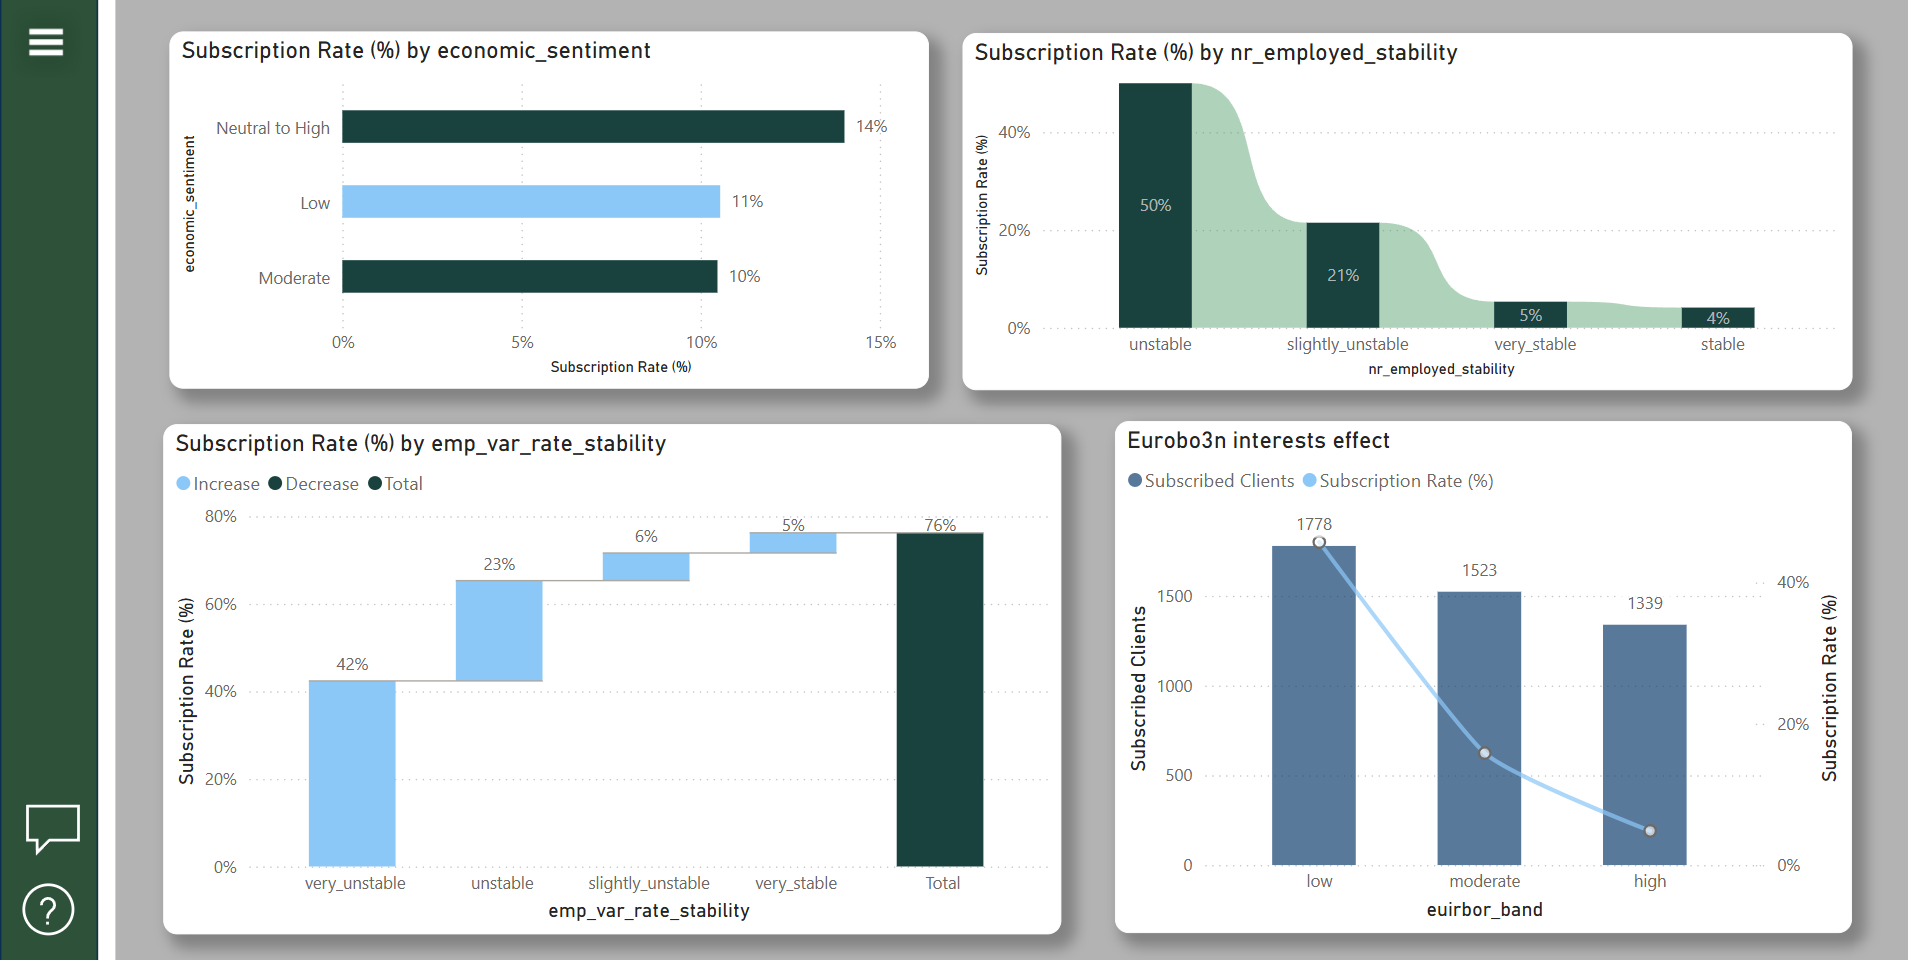

This screenshot's page, from the dashboard's own definition file:
{"tool":"powerbi","page":{"name":"eco_indicator_over_view","canvas":[1370,700],"ordinal":2},"visuals":[{"type":"shape","title":"side bar","box":[0,0,70.7,719.1],"z":0,"group":"g3"},{"type":"clusteredBarChart","fields":{"Y":["subscriptions.Subscription Rate (%)"],"Category":["bank_marketing_campaign.economic_sentiment"]},"box":[122.1,25.1,548.2,257.6],"z":0,"group":"g2"},{"type":"group","id":"g1","title":"Group 2","box":[118,307,1218.3,370.2],"z":0},{"type":"actionButton","title":"Menu button","box":[0,0,70,66.9],"z":1000,"group":"g3"},{"type":"group","id":"g2","title":"Group 1","box":[122.1,25.1,1214.4,258.7],"z":1000},{"type":"lineStackedColumnComboChart","title":"Eurobo3n interests effect","fields":{"Y":["subscriptions.Subscribed Clients"],"Y2":["subscriptions.Subscription Rate (%)"],"Category":["bank_marketing_campaign.euirbor_band"]},"box":[804.5,307,531.7,369.3],"z":1000,"group":"g1"},{"type":"shape","title":"sb2","box":[71.3,0,12.1,699.7],"z":2000,"group":"g3"},{"type":"ribbonChart","fields":{"Y":["subscriptions.Subscription Rate (%)"],"Category":["bank_marketing_campaign.nr_employed_stability"]},"box":[694.4,26.2,642.1,257.6],"z":2000,"group":"g2"},{"type":"waterfallChart","fields":{"Y":["subscriptions.Subscription Rate (%)"],"Category":["bank_marketing_campaign.emp_var_rate_stability"]},"box":[118,309.1,648,368.1],"z":2001,"group":"g1"},{"type":"group","id":"g3","title":"Menu bar","box":[0,0,83.5,719.1],"z":3000},{"type":"actionButton","title":"Ques & Ans","box":[13.3,575.9,50.1,52.6],"z":3000,"group":"g3"},{"type":"actionButton","title":"Help","box":[10.3,628.5,50.1,59.9],"z":4000,"group":"g3"}]}

Visuals, with their boxes in screenshot pixels (x1, y1, x2, y2):
"side bar" shape: x1=0 y1=0 x2=89 y2=959
clusteredBarChart - subscriptions.Subscription Rate (%) x bank_marketing_campaign.economic_sentiment: x1=161 y1=20 x2=929 y2=381
"Group 2" group: x1=155 y1=415 x2=1862 y2=934
"Menu button" actionButton: x1=0 y1=0 x2=88 y2=79
"Group 1" group: x1=161 y1=20 x2=1862 y2=383
"Eurobo3n interests effect" lineStackedColumnComboChart: x1=1117 y1=415 x2=1862 y2=932
"sb2" shape: x1=90 y1=0 x2=107 y2=959
ribbonChart - subscriptions.Subscription Rate (%) x bank_marketing_campaign.nr_employed_stability: x1=963 y1=22 x2=1862 y2=383
waterfallChart - subscriptions.Subscription Rate (%) x bank_marketing_campaign.emp_var_rate_stability: x1=155 y1=418 x2=1063 y2=934
"Menu bar" group: x1=0 y1=0 x2=107 y2=959
"Ques & Ans" actionButton: x1=9 y1=792 x2=79 y2=865
"Help" actionButton: x1=4 y1=865 x2=75 y2=949
